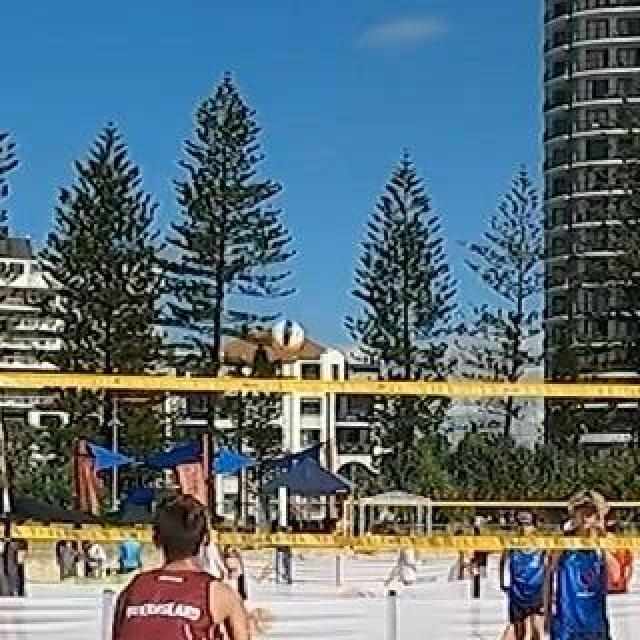volleyball: (270, 320, 304, 354)
